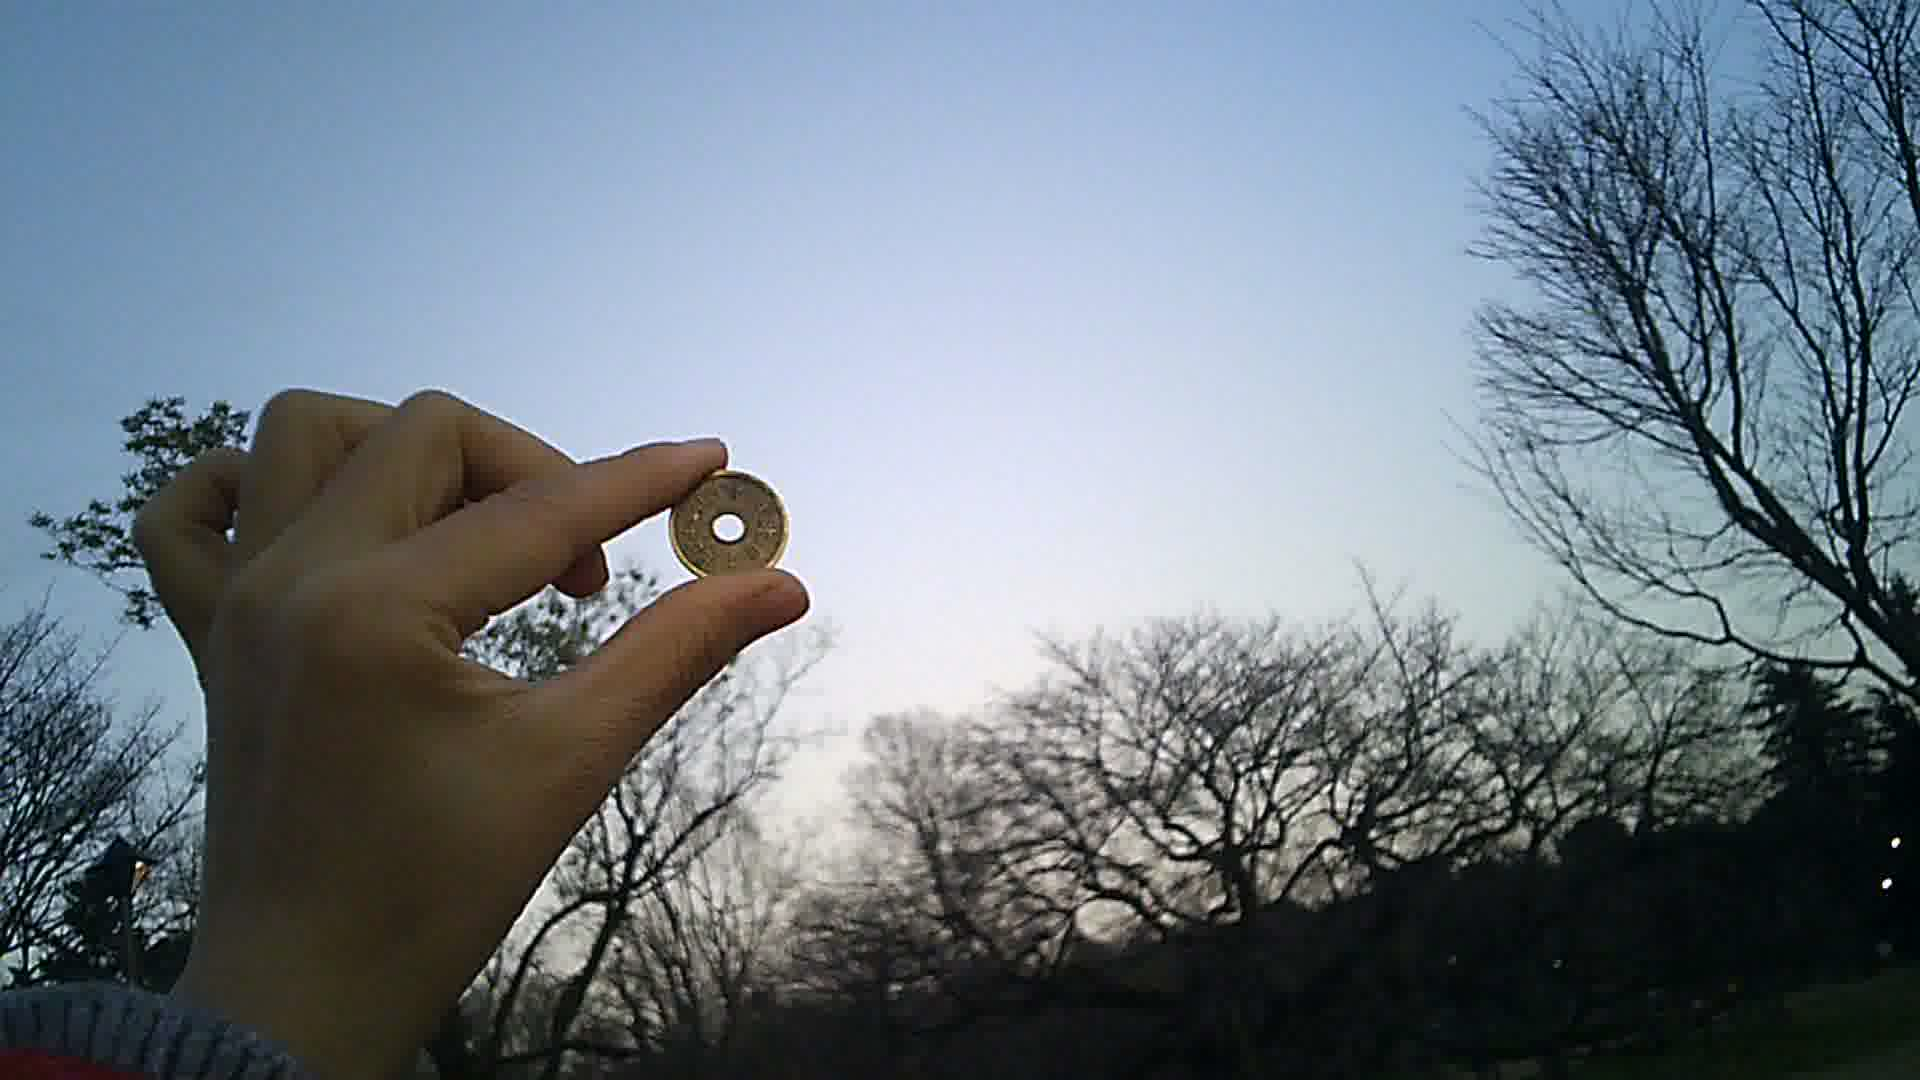5 Yen: (663, 464, 795, 582)
